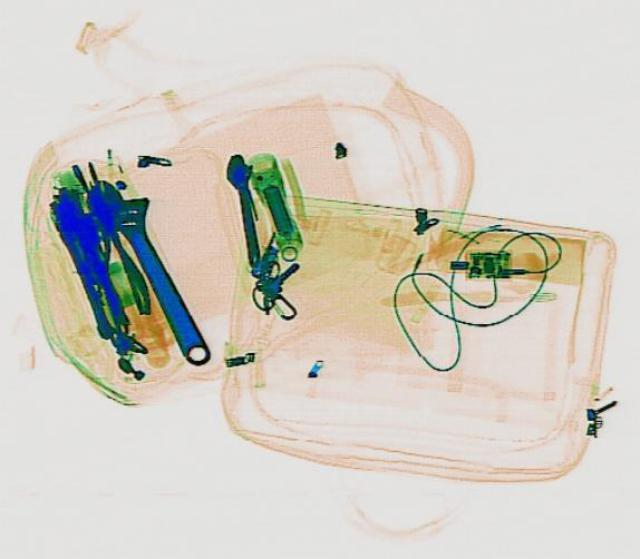Pliers: (76, 203, 154, 320)
Wrench: (75, 168, 237, 369), (220, 150, 268, 266)
